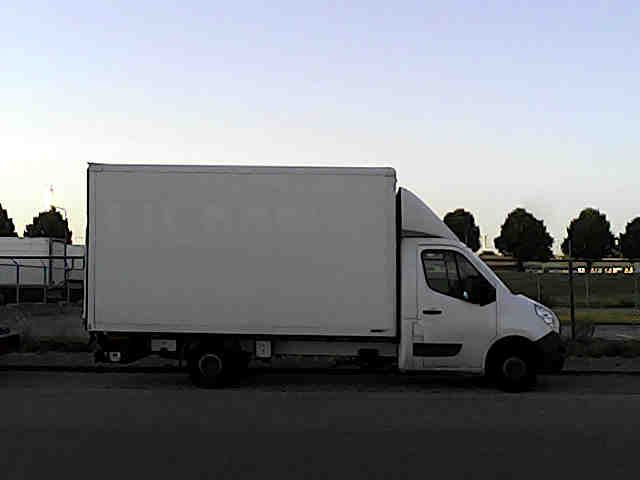whitevan: (84, 164, 563, 389)
